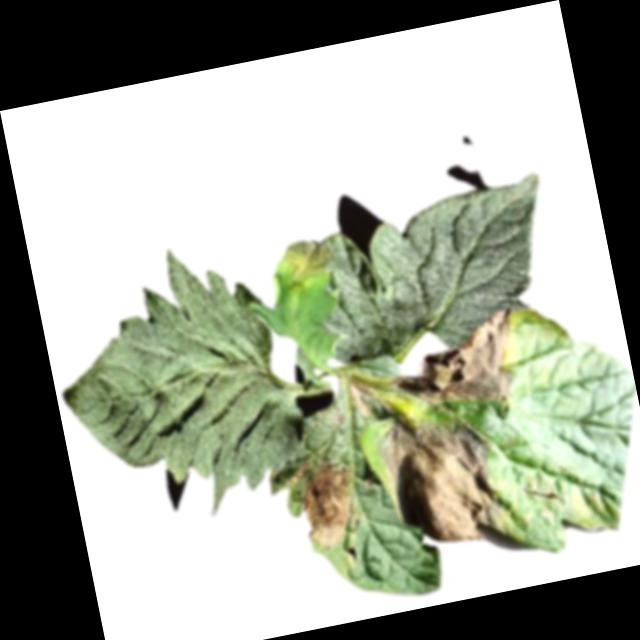Late_blight: (368, 404, 509, 557), (378, 308, 516, 422), (293, 457, 364, 555), (276, 233, 340, 290), (345, 376, 373, 418)
